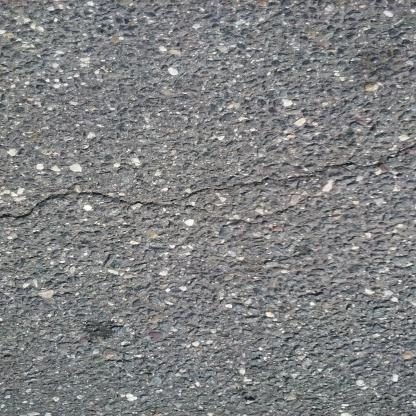Cracks: (1, 144, 415, 225)
